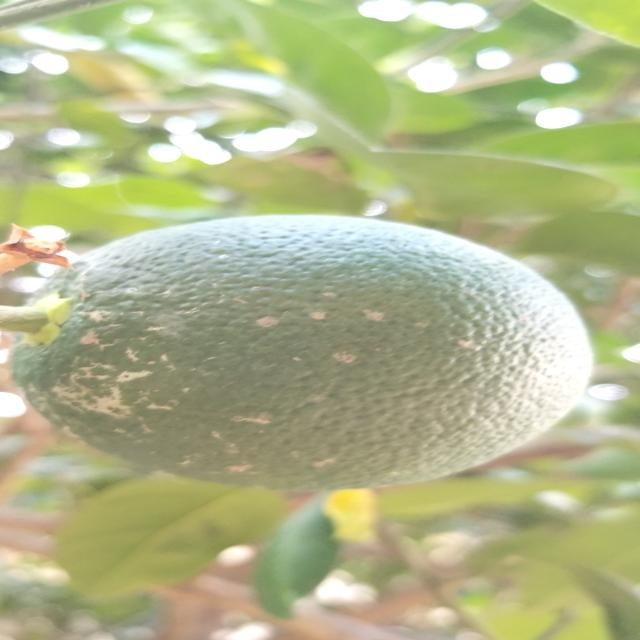agrume: (13, 215, 601, 497)
